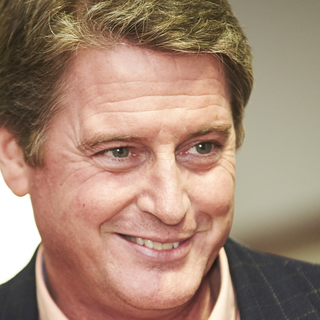eye: (85, 141, 146, 165), (177, 134, 225, 161)
